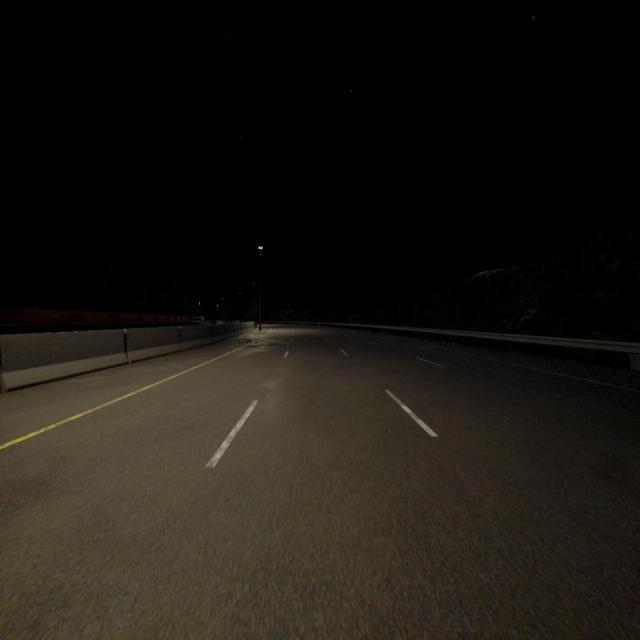Vehicle: (192, 316, 204, 324)
